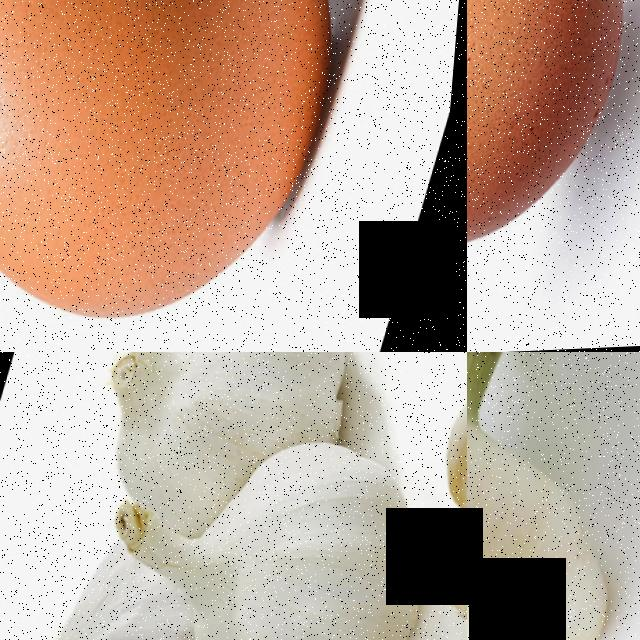egg_: (0, 0, 396, 352), (467, 0, 640, 302)
garlic: (161, 422, 458, 640), (467, 352, 640, 640), (80, 352, 312, 523), (4, 547, 220, 640), (428, 352, 467, 532)
